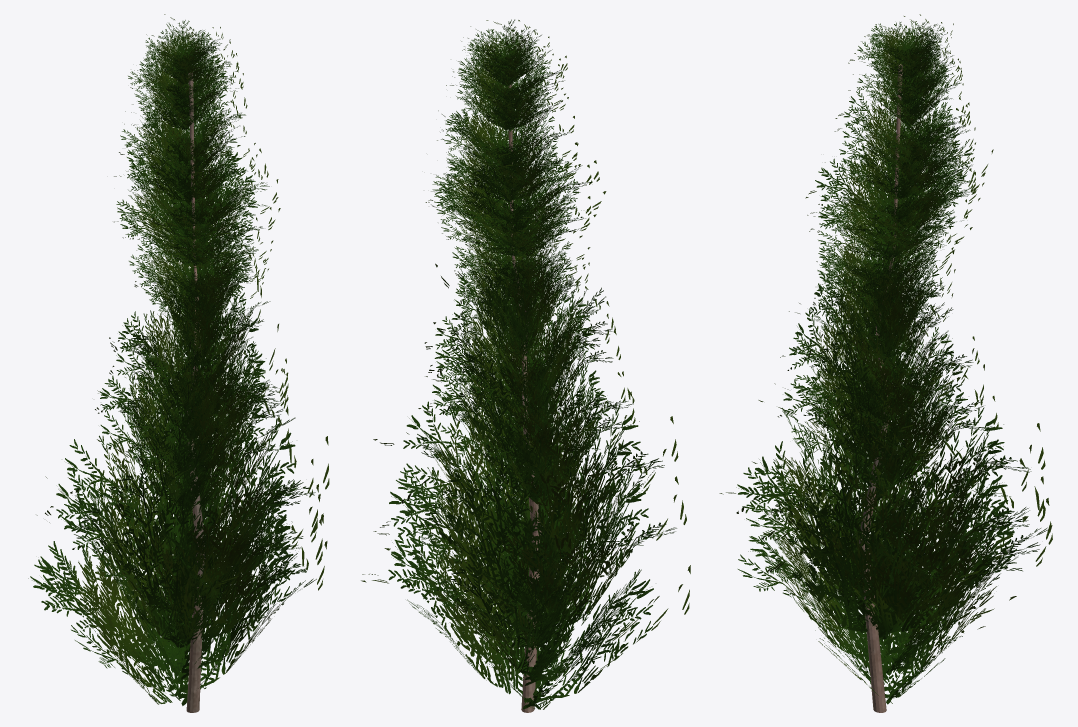
File: SM_bush_03.glb
3 views of the same model, side by side, from view 1: azimuth 30°, elevation 25°; view 2: azimuth 150°, elevation 25°; view 3: azimuth 270°, elevation 25° (orthographic). The views are drawn at different scales.
Parts seen in each view (by area): view 1: SM_bush_03; view 2: SM_bush_03; view 3: SM_bush_03.
Boxes of the visible parts, bbox=[...] form: SM_bush_03: bbox=[28, 14, 329, 712]; SM_bush_03: bbox=[361, 19, 690, 712]; SM_bush_03: bbox=[719, 14, 1052, 712].
Bounding box in the file's own units: 3.82 × 9.31 × 4.21.
Materials: 2 (2 with a texture image).
